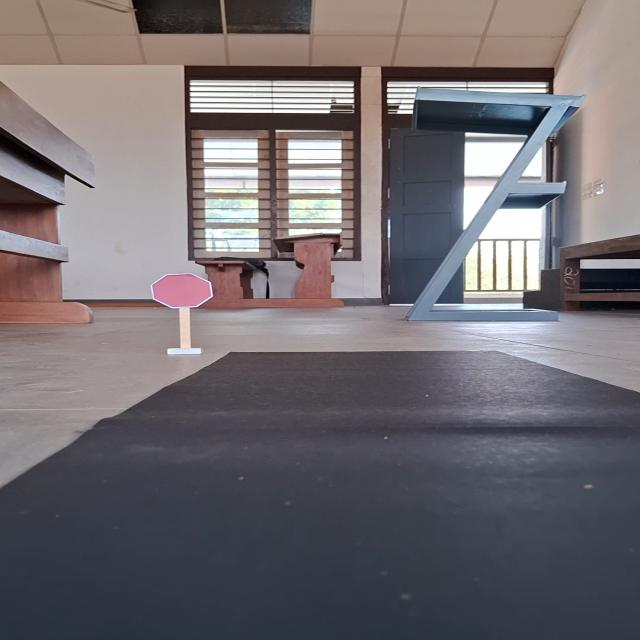Stop: (150, 274, 214, 308)
